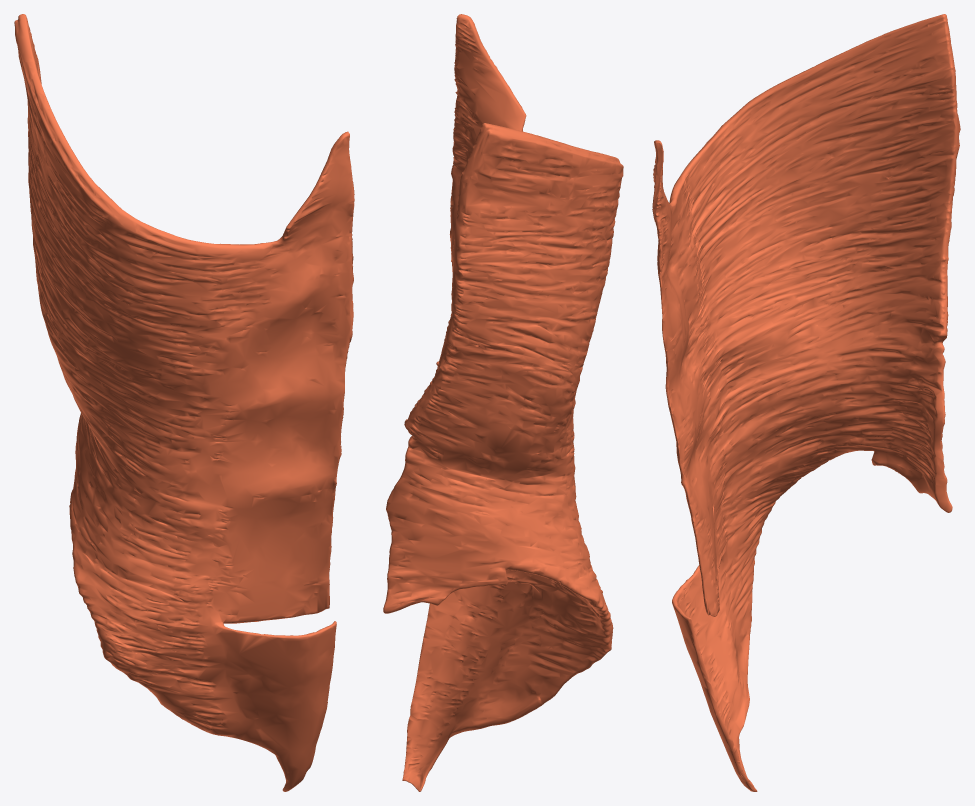
The model's file is Transversus_abdominis_muscle.r_Generated_Mesh_From_X3D.140.glb.
3 renders of one model, left to right at view 1: azimuth 30°, elevation 25°; view 2: azimuth 150°, elevation 25°; view 3: azimuth 270°, elevation 25°, orthographic. The views are drawn at different scales.
Parts seen in each view (by area): view 1: Transversus_abdominis_muscle.r_Generated_Mesh_From_X3D.140; view 2: Transversus_abdominis_muscle.r_Generated_Mesh_From_X3D.140; view 3: Transversus_abdominis_muscle.r_Generated_Mesh_From_X3D.140.
Part boxes in pixels (x1,y1,x2,y2): Transversus_abdominis_muscle.r_Generated_Mesh_From_X3D.140: [14, 14, 354, 791]; Transversus_abdominis_muscle.r_Generated_Mesh_From_X3D.140: [383, 14, 623, 791]; Transversus_abdominis_muscle.r_Generated_Mesh_From_X3D.140: [652, 14, 960, 791].
Size of the model in its own units: 0.1295 by 0.4211 by 0.1674.
